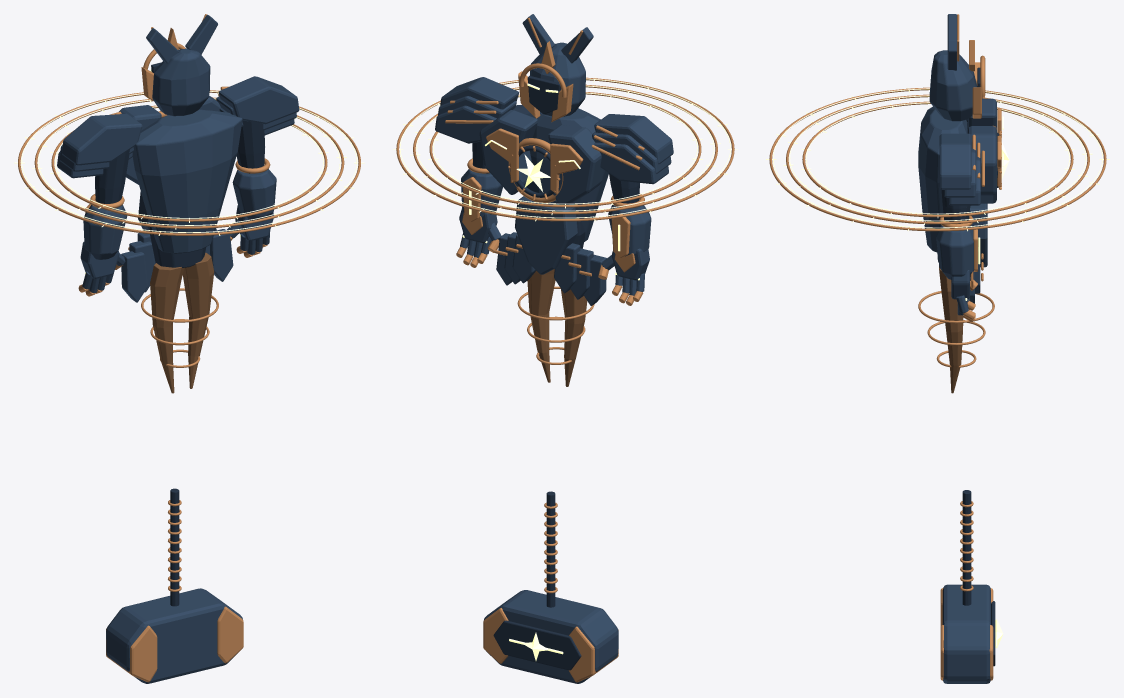
File: astreion.glb
3 renders of one model, left to right at view 1: azimuth 30°, elevation 25°; view 2: azimuth 150°, elevation 25°; view 3: azimuth 270°, elevation 25°, orthographic.
Parts seen in each view (by area): view 1: BodyDetails, HammerGeometry, ArmLeftGeometry, ArmRightGeometry, Orbit2, Orbit1, Orbit0; view 2: BodyDetails, HammerGeometry, ArmLeftGeometry, ArmRightGeometry, BodyArmor, Orbit2, Orbit1, Orbit0; view 3: BodyDetails, HammerGeometry, ArmRightGeometry, Orbit2, Orbit1, Orbit0, BodyArmor.
Boxes of the visible parts, x1=… form: BodyDetails: x1=119, y1=14, x2=242, y2=393; HammerGeometry: x1=106, y1=488, x2=243, y2=683; ArmLeftGeometry: x1=57, y1=111, x2=142, y2=296; ArmRightGeometry: x1=216, y1=76, x2=299, y2=257; Orbit2: x1=14, y1=89, x2=364, y2=235; Orbit1: x1=32, y1=97, x2=346, y2=229; Orbit0: x1=50, y1=105, x2=328, y2=222; BodyDetails: x1=479, y1=14, x2=608, y2=386; HammerGeometry: x1=483, y1=491, x2=618, y2=683; ArmLeftGeometry: x1=591, y1=114, x2=673, y2=305; ArmRightGeometry: x1=435, y1=77, x2=518, y2=267; BodyArmor: x1=515, y1=196, x2=577, y2=274; Orbit2: x1=393, y1=77, x2=737, y2=221; Orbit1: x1=410, y1=84, x2=720, y2=214; Orbit0: x1=428, y1=92, x2=702, y2=208; BodyDetails: x1=918, y1=14, x2=1003, y2=393; HammerGeometry: x1=940, y1=490, x2=1003, y2=683; ArmRightGeometry: x1=936, y1=133, x2=984, y2=321; Orbit2: x1=766, y1=87, x2=1109, y2=231; Orbit1: x1=783, y1=94, x2=1092, y2=224; Orbit0: x1=801, y1=101, x2=1074, y2=217; BodyArmor: x1=970, y1=203, x2=987, y2=267.
Size of the model in its own units: 3.28 by 6.82 by 3.33.
